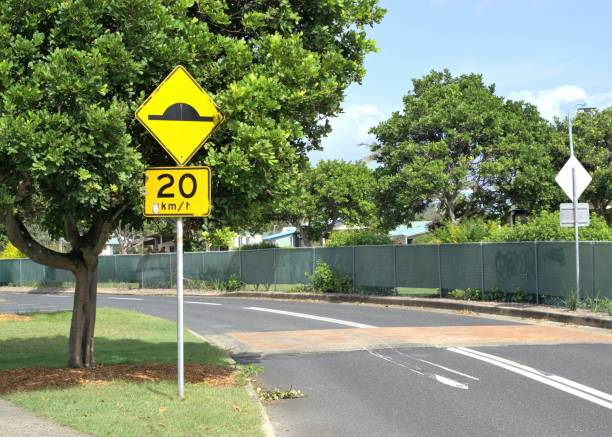speed-breaker: (135, 66, 224, 166)
